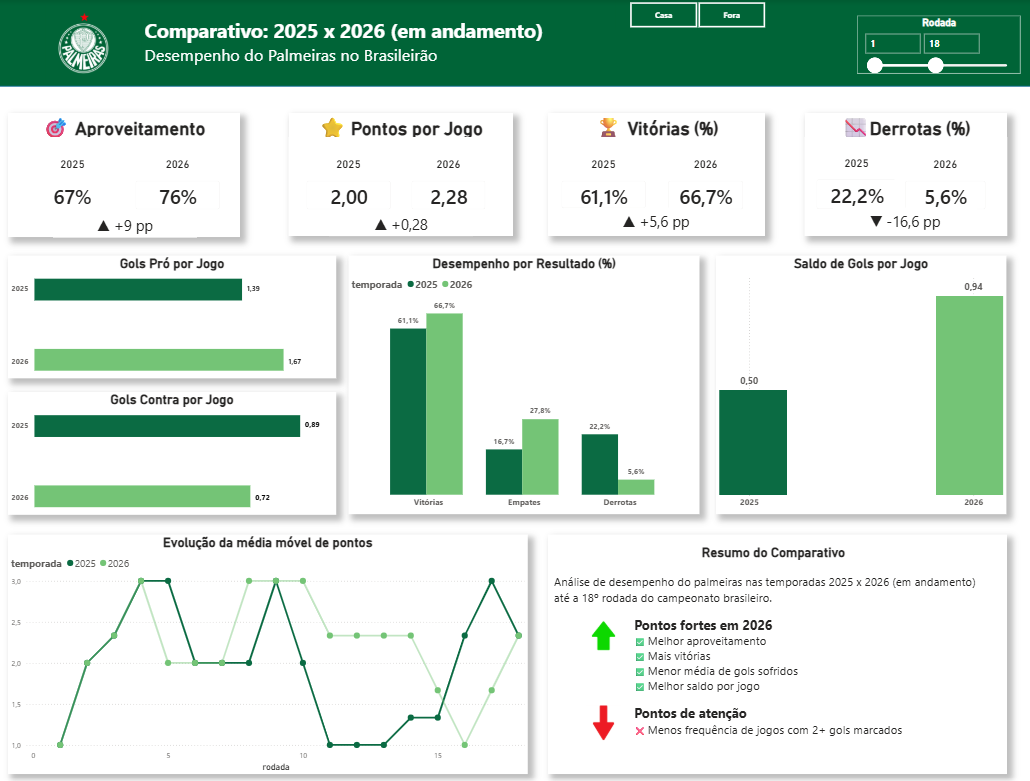

What the dashboard file says about the page in this screenshot:
{"tool":"powerbi","page":{"name":"Comparativo de desempenho","canvas":[1700,1290],"ordinal":2},"visuals":[{"type":"shape","box":[0,0,1699.3,143.3],"z":0},{"type":"slicer","fields":{"Values":["palmeiras_jogos_historico.local_jogo"]},"box":[1010,0,269.5,51.5],"z":1000},{"type":"image","box":[46.9,0,186.2,143.8],"z":2000},{"type":"textbox","box":[234.7,24.9,729.2,95.6],"z":3000},{"type":"shape","title":"🎯 Aproveitamento","box":[14.5,187,380.2,203.6],"z":4000},{"type":"shape","title":"⭐ Pontos por Jogo ","box":[473.6,187,367.7,201.5],"z":5000},{"type":"shape","title":"🏆 Vitórias (%)","box":[899.5,187,355.2,201.5],"z":6000},{"type":"shape","title":"📉Derrotas (%)","box":[1319.1,187,332.4,201.5],"z":7000},{"type":"cardVisual","title":"2025","fields":{"Data":["Medidas.Aproveitamento"]},"box":[33.2,261.8,172.4,101.8],"z":8000},{"type":"cardVisual","title":"2026","fields":{"Data":["Medidas.Aproveitamento"]},"box":[205.7,261.8,172.4,101.8],"z":9000},{"type":"cardVisual","title":"2025","fields":{"Data":["M_xtemporadas.Pontos por Jogo"]},"box":[486.1,261.8,172.4,101.8],"z":10000},{"type":"cardVisual","title":"2026","fields":{"Data":["M_xtemporadas.Pontos por Jogo"]},"box":[658.5,261.8,155.8,101.8],"z":11000},{"type":"cardVisual","title":"2025","fields":{"Data":["M_xtemporadas.Vitórias %"]},"box":[905.7,259.7,172.4,99.7],"z":12000},{"type":"cardVisual","title":"2026","fields":{"Data":["M_xtemporadas.Vitórias %"]},"box":[1078.2,261.8,157.9,101.8],"z":13000},{"type":"cardVisual","title":"2025","fields":{"Data":["M_xtemporadas.Derrotas %"]},"box":[1323.3,257.6,166.2,103.9],"z":14000},{"type":"cardVisual","title":"2026","fields":{"Data":["M_xtemporadas.Derrotas %"]},"box":[1468.7,261.8,166.2,101.8],"z":15000},{"type":"clusteredBarChart","title":"Gols Contra por Jogo ","fields":{"Y":["M_xtemporadas.Gols contra por Jogo"],"Category":["palmeiras_jogos_historico.temporada"]},"box":[14.5,644,538,201.5],"z":16000},{"type":"clusteredColumnChart","title":"Desempenho por Resultado (%)","fields":{"Category":["Resultado.Resultado"],"Y":["Resultado.Resultado (%)"],"Series":["palmeiras_casa_fora_historico.temporada"]},"box":[573.4,419.6,575.4,423.8],"z":17000},{"type":"clusteredColumnChart","title":"Saldo de Gols por Jogo","fields":{"Y":["M_xtemporadas.Saldo_gols_p_jogo"],"Category":["palmeiras_jogos_historico.temporada"]},"box":[1175.8,419.6,475.7,423.8],"z":18000},{"type":"lineChart","title":"Evolução da média móvel de pontos","fields":{"Series":["palmeiras_jogos_historico.temporada"],"Y":["M_xtemporadas.Média Móvel 3"],"Category":["palmeiras_jogos_historico.rodada"]},"box":[14.5,878.7,851.7,392.6],"z":19000},{"type":"clusteredBarChart","title":"Gols Pró por Jogo","fields":{"Y":["M_xtemporadas.Gols Pró por Jogo"],"Category":["palmeiras_jogos_historico.temporada"]},"box":[14.5,419.6,538,201.5],"z":20000},{"type":"slicer","title":"Rodada","fields":{"Values":["palmeiras_jogos_historico.rodada"]},"box":[1406.4,27,268,95.6],"z":21000},{"type":"shape","box":[899.5,878.7,752,392.6],"z":22000},{"type":"textbox","title":"Resumo do Comparativo","box":[905.7,895.4,729.2,359.4],"z":23000},{"type":"image","box":[958.9,1013,63.9,61.5],"z":24000},{"type":"image","box":[958.9,1158.1,63.9,56.6],"z":25000},{"type":"textbox","box":[88.5,349.1,236,41.8],"z":26000},{"type":"textbox","box":[958.9,341.8,236,41.8],"z":27000},{"type":"textbox","box":[540.9,346.7,236,41.8],"z":28000},{"type":"textbox","box":[1367.1,341.8,236,41.8],"z":29000}]}

Visuals, with their boxes in screenshot pixels (x1, y1, x2, y2), scaled from the page's 1700x1290 canvas onto the 1030x781 screenshot:
shape: rect(0, 0, 1029, 87)
slicer - palmeiras_jogos_historico.local_jogo: rect(612, 0, 775, 31)
image: rect(28, 0, 141, 87)
textbox: rect(142, 15, 584, 73)
"🎯 Aproveitamento" shape: rect(9, 113, 239, 236)
"⭐ Pontos por Jogo " shape: rect(287, 113, 510, 235)
"🏆 Vitórias (%)" shape: rect(545, 113, 760, 235)
"📉Derrotas (%)" shape: rect(799, 113, 1001, 235)
"2025" cardVisual: rect(20, 159, 125, 220)
"2026" cardVisual: rect(125, 159, 229, 220)
"2025" cardVisual: rect(295, 159, 399, 220)
"2026" cardVisual: rect(399, 159, 493, 220)
"2025" cardVisual: rect(549, 157, 653, 218)
"2026" cardVisual: rect(653, 159, 749, 220)
"2025" cardVisual: rect(802, 156, 902, 219)
"2026" cardVisual: rect(890, 159, 991, 220)
"Gols Contra por Jogo " clusteredBarChart: rect(9, 390, 335, 512)
"Desempenho por Resultado (%)" clusteredColumnChart: rect(347, 254, 696, 511)
"Saldo de Gols por Jogo" clusteredColumnChart: rect(712, 254, 1001, 511)
"Evolução da média móvel de pontos" lineChart: rect(9, 532, 525, 770)
"Gols Pró por Jogo" clusteredBarChart: rect(9, 254, 335, 376)
"Rodada" slicer: rect(852, 16, 1014, 74)
shape: rect(545, 532, 1001, 770)
"Resumo do Comparativo" textbox: rect(549, 542, 991, 760)
image: rect(581, 613, 620, 651)
image: rect(581, 701, 620, 735)
textbox: rect(54, 211, 197, 237)
textbox: rect(581, 207, 724, 232)
textbox: rect(328, 210, 471, 235)
textbox: rect(828, 207, 971, 232)
